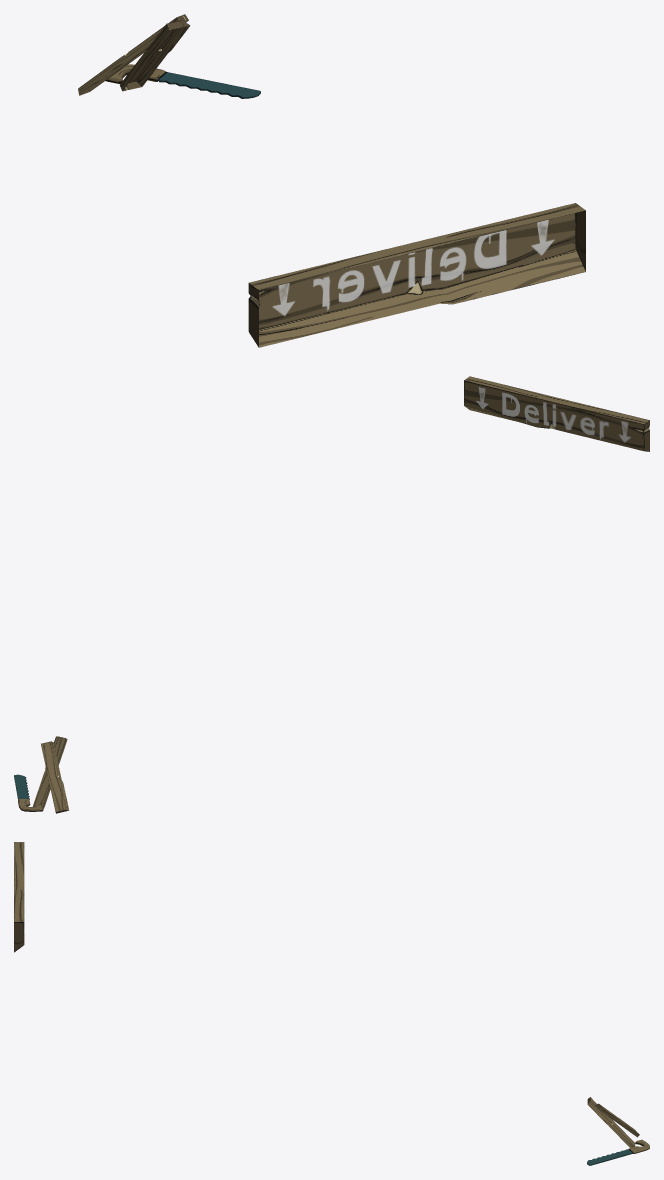
File: PropsExtra.fbx
The picture shows the model from 3 angles, top to bottom: view 1: azimuth 30°, elevation 25°; view 2: azimuth 150°, elevation 25°; view 3: azimuth 270°, elevation 25°; orthographic projection. The views are drawn at different scales.
Parts seen in each view (by area): view 1: Door1, Planken, saw; view 2: Door1, Planken; view 3: Door1, Planken, saw.
Part boxes in pixels (box(x1,y1,x2,y2)): Door1: box(248, 203, 585, 347); Planken: box(78, 14, 190, 95); saw: box(105, 64, 260, 98); Door1: box(464, 376, 649, 451); Planken: box(33, 736, 69, 813); Door1: box(14, 842, 24, 952); Planken: box(587, 1097, 639, 1147); saw: box(587, 1139, 649, 1165).
Bounding box in the file's own units: 489 × 301 × 932.
